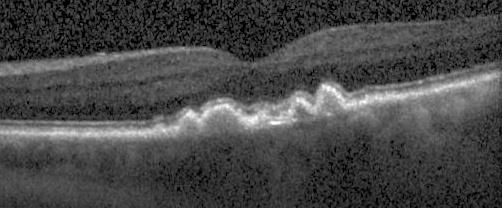retinal_drusen: (202, 107, 239, 134), (318, 89, 344, 117), (179, 115, 199, 135), (293, 103, 313, 122), (255, 112, 266, 127), (153, 124, 165, 134)
